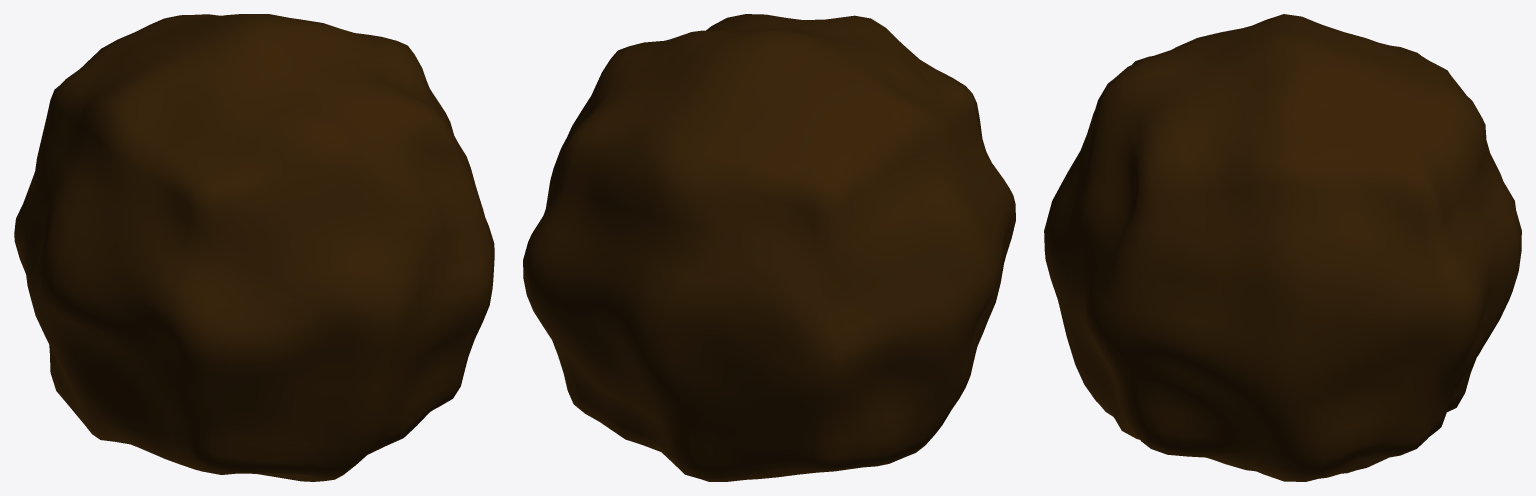
File: BouseBOUSIER.fbx
The picture shows the model from 3 angles, left to right: view 1: azimuth 30°, elevation 25°; view 2: azimuth 150°, elevation 25°; view 3: azimuth 270°, elevation 25°; orthographic projection. The views are drawn at different scales.
Visible parts, largest first — view 1: Cube.001; view 2: Cube.001; view 3: Cube.001.
Part boxes in pixels (x1=…): Cube.001: x1=14, y1=14, x2=494, y2=481; Cube.001: x1=523, y1=14, x2=1015, y2=481; Cube.001: x1=1044, y1=14, x2=1521, y2=481.
Size of the model in its own units: 610 by 617 by 621.
